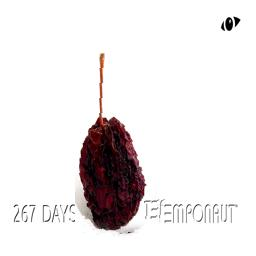Apple Rotten: (75, 17, 177, 236)
